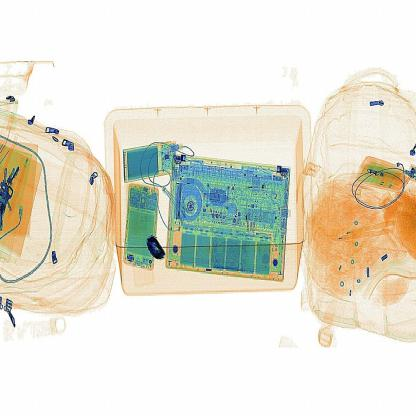scissors: (138, 231, 176, 267)
